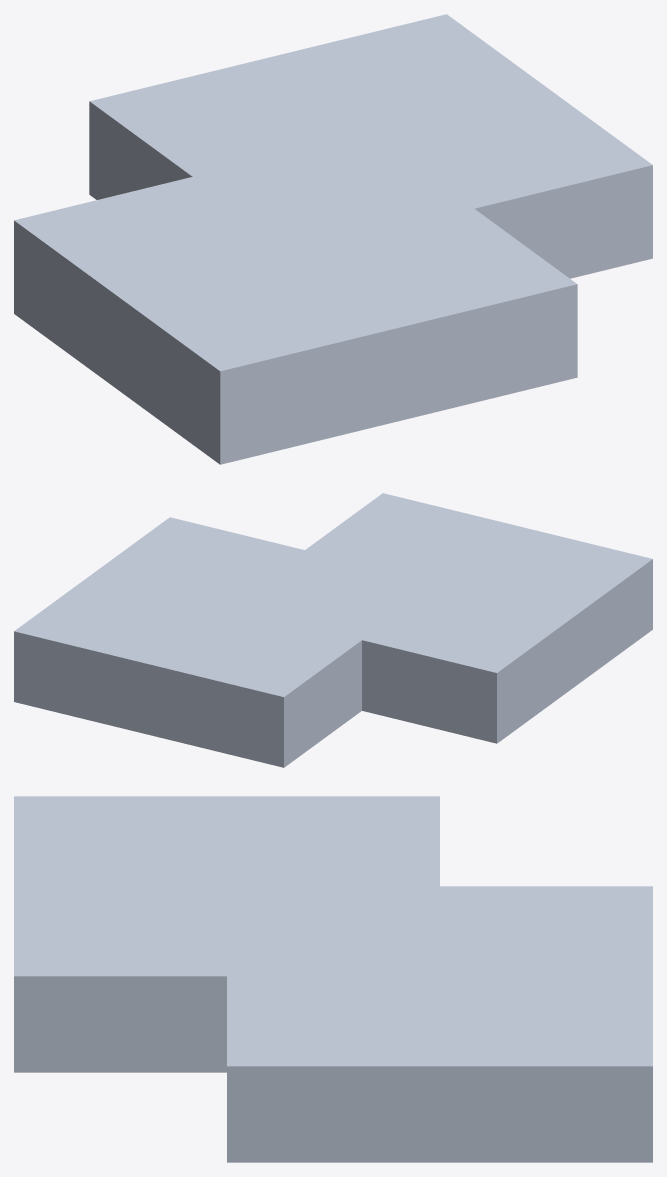
Rendered from nuvem6.fbx.
The picture shows the model from 3 angles, top to bottom: view 1: azimuth 30°, elevation 25°; view 2: azimuth 150°, elevation 25°; view 3: azimuth 270°, elevation 25°; orthographic projection. The views are drawn at different scales.
Visible parts, largest first — view 1: Cube.008; view 2: Cube.008; view 3: Cube.008.
Part boxes in pixels (x1,y1,x2,y2): Cube.008: (14,14,652,464); Cube.008: (14,493,652,767); Cube.008: (14,796,652,1162).
Bounding box in the file's own units: 600 × 100 × 600.
